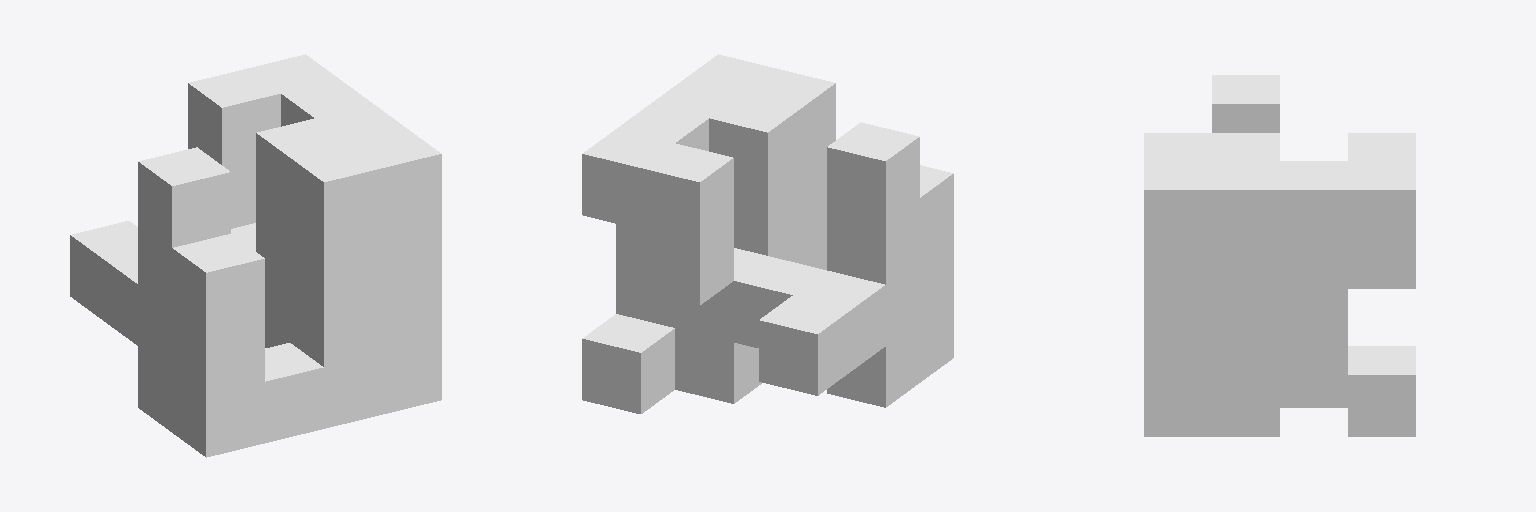
File: fragment2.obj
3 views of the same model, side by side, from view 1: azimuth 30°, elevation 25°; view 2: azimuth 150°, elevation 25°; view 3: azimuth 270°, elevation 25° (orthographic).
Size of the model in its own units: 4 by 4 by 4.